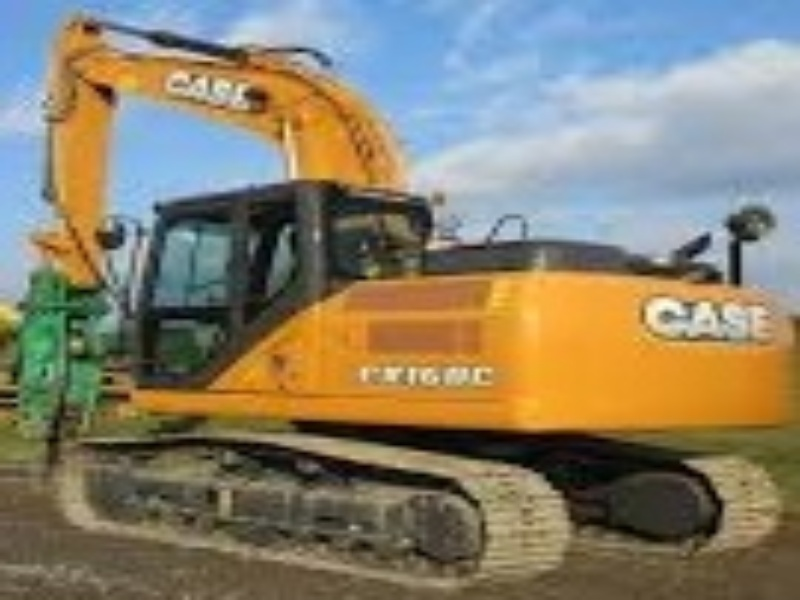wajueji: (42, 175, 796, 581)
